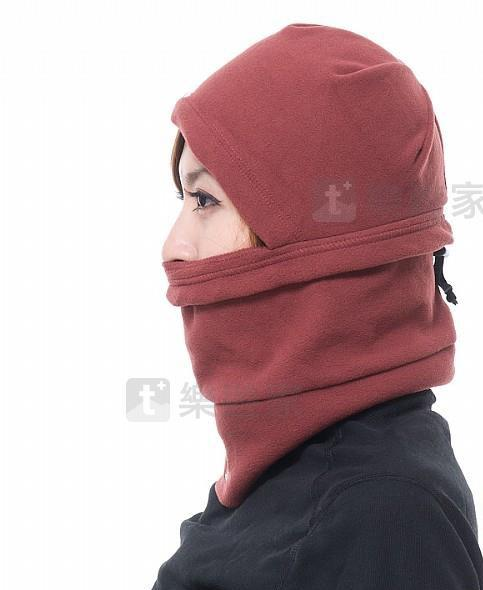WRONG: (159, 154, 324, 359)
